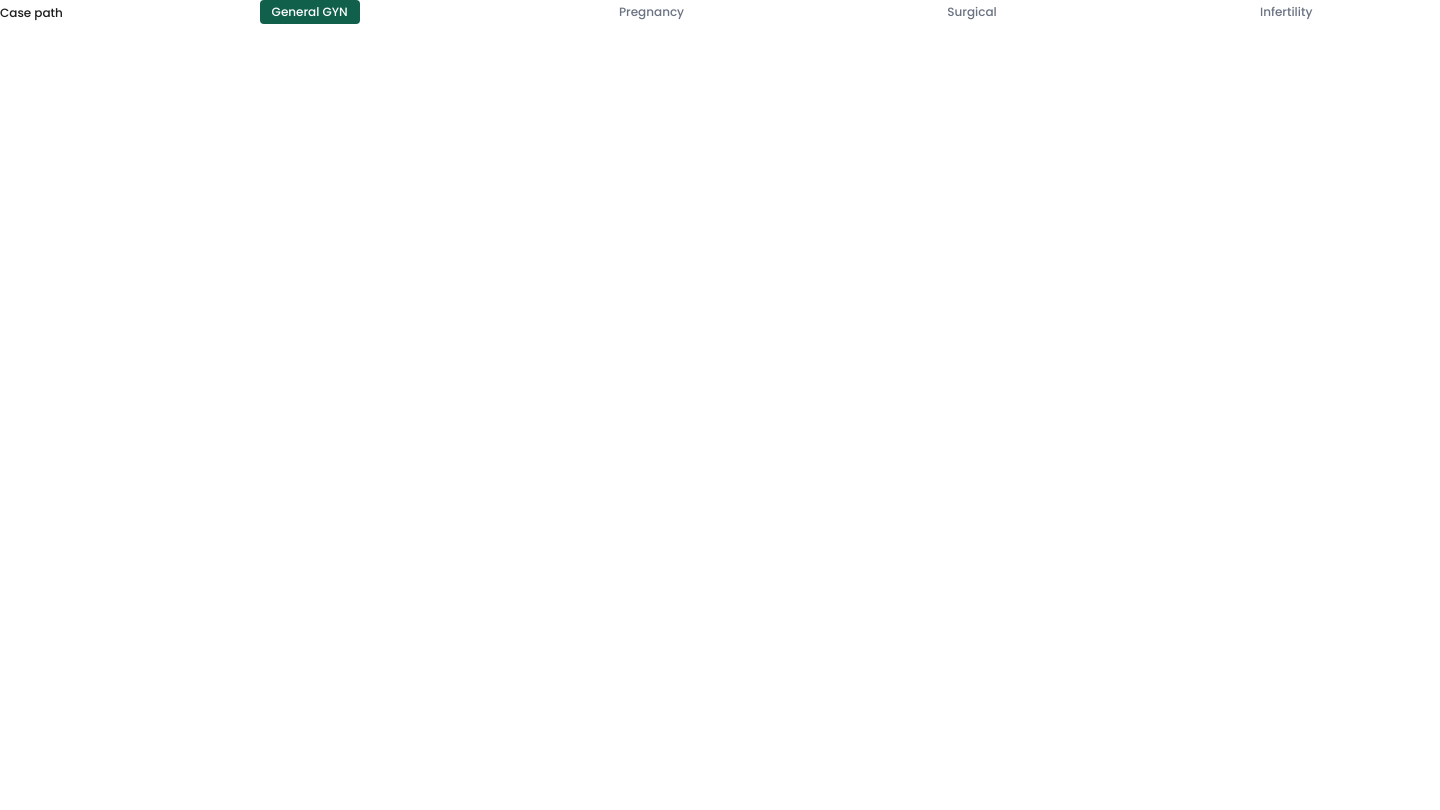
Test case: CasePathInput › opens coming-soon dialog when clicking Infertility
The width and height of the screenshot is (1440, 810).
Click the button "Infertility": click(1286, 12) [1256, 4, 1316, 20]
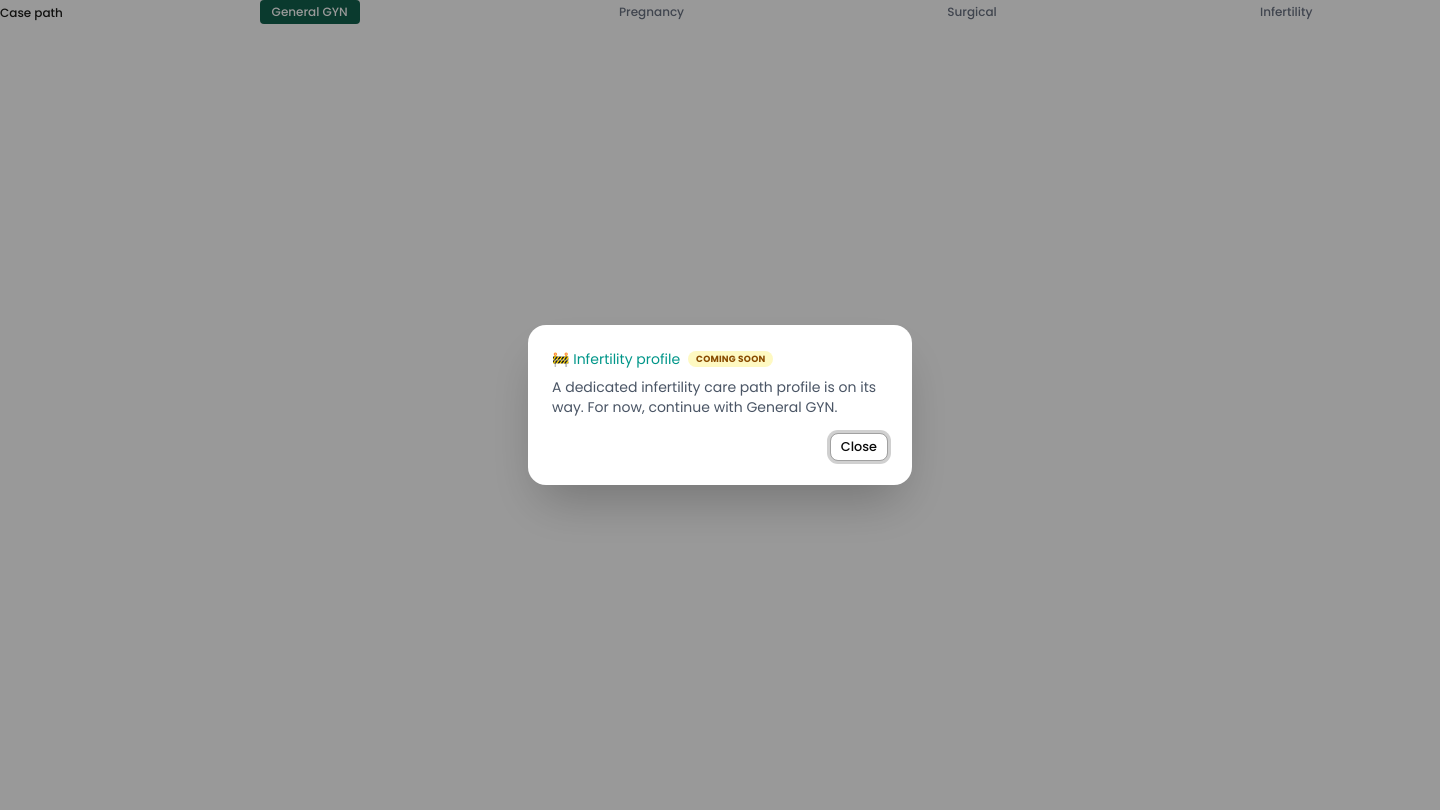
Result: the text "Coming soon" is shown at [688, 351, 773, 367]
